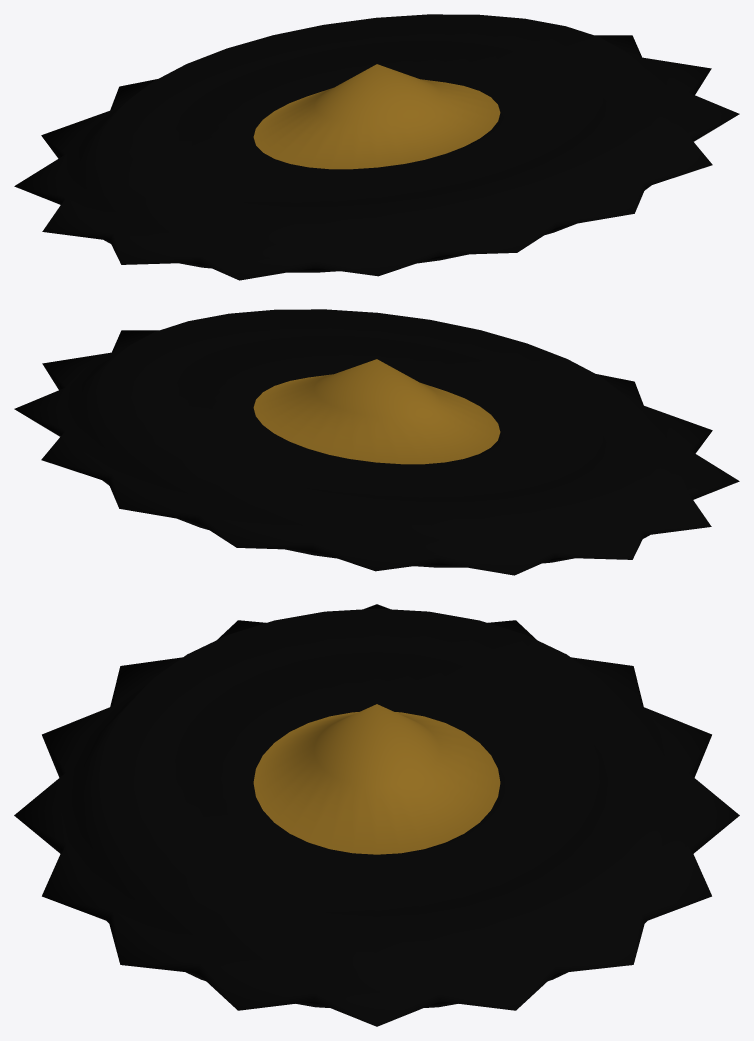
File: amazon_shield.gltf
The picture shows the model from 3 angles, top to bottom: view 1: azimuth 30°, elevation 25°; view 2: azimuth 150°, elevation 25°; view 3: azimuth 270°, elevation 25°; orthographic projection. The views are drawn at different scales.
Visible parts, largest first — view 1: amazon_shield; view 2: amazon_shield; view 3: amazon_shield.
Part boxes in pixels (<box>): amazon_shield: <box>14,14,739,280</box>; amazon_shield: <box>14,309,739,575</box>; amazon_shield: <box>14,604,739,1026</box>.
Bounding box in the file's own units: 0.3171 × 0.0429 × 0.2302.
